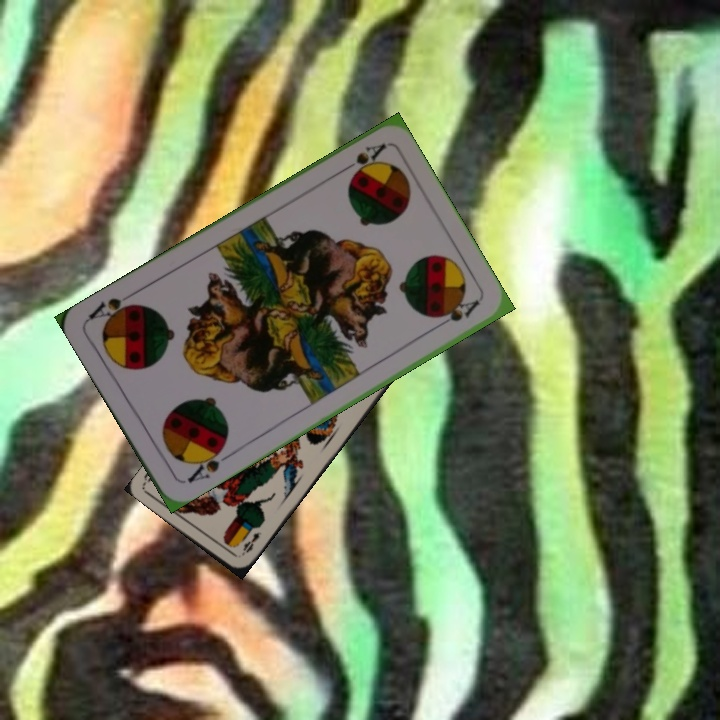EO: (237, 528, 264, 559)
SA: (183, 440, 234, 486), (335, 139, 389, 179)
